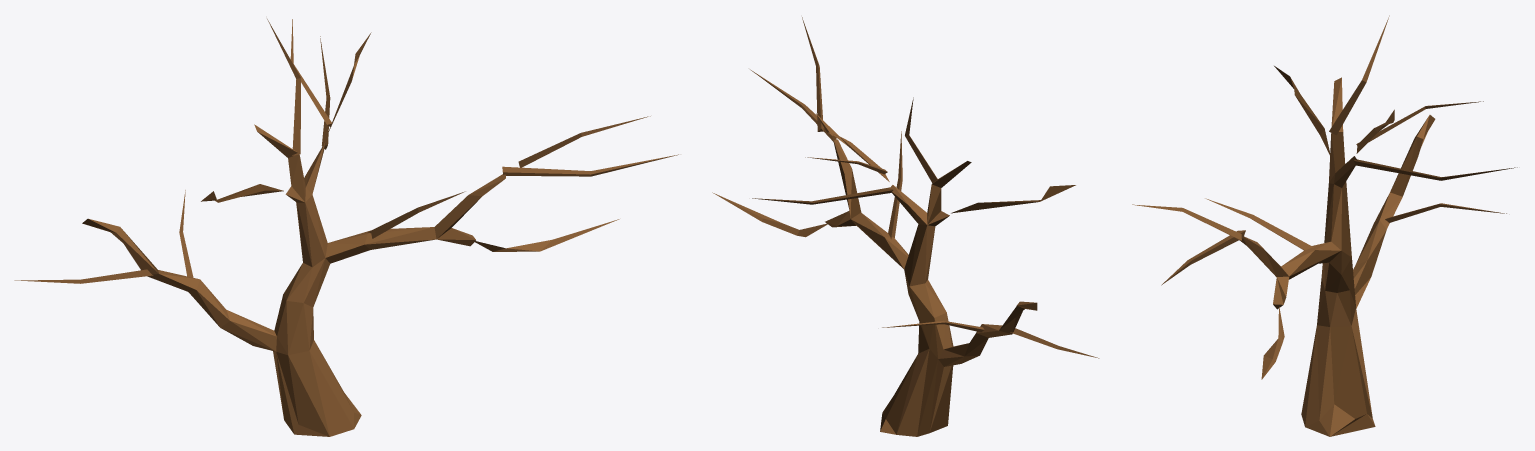
Rendered from cherry_2_bare_far.glb.
The picture shows the model from 3 angles, left to right: view 1: azimuth 30°, elevation 25°; view 2: azimuth 150°, elevation 25°; view 3: azimuth 270°, elevation 25°; orthographic projection. The views are drawn at different scales.
Parts seen in each view (by area): view 1: cherry_2_bare_far; view 2: cherry_2_bare_far; view 3: cherry_2_bare_far.
Part boxes in pixels (x1,y1,x2,y2): cherry_2_bare_far: (14,19,678,436); cherry_2_bare_far: (712,17,1099,436); cherry_2_bare_far: (1132,15,1517,436).
Bounding box in the file's own units: 9.33 × 6.57 × 5.95.
